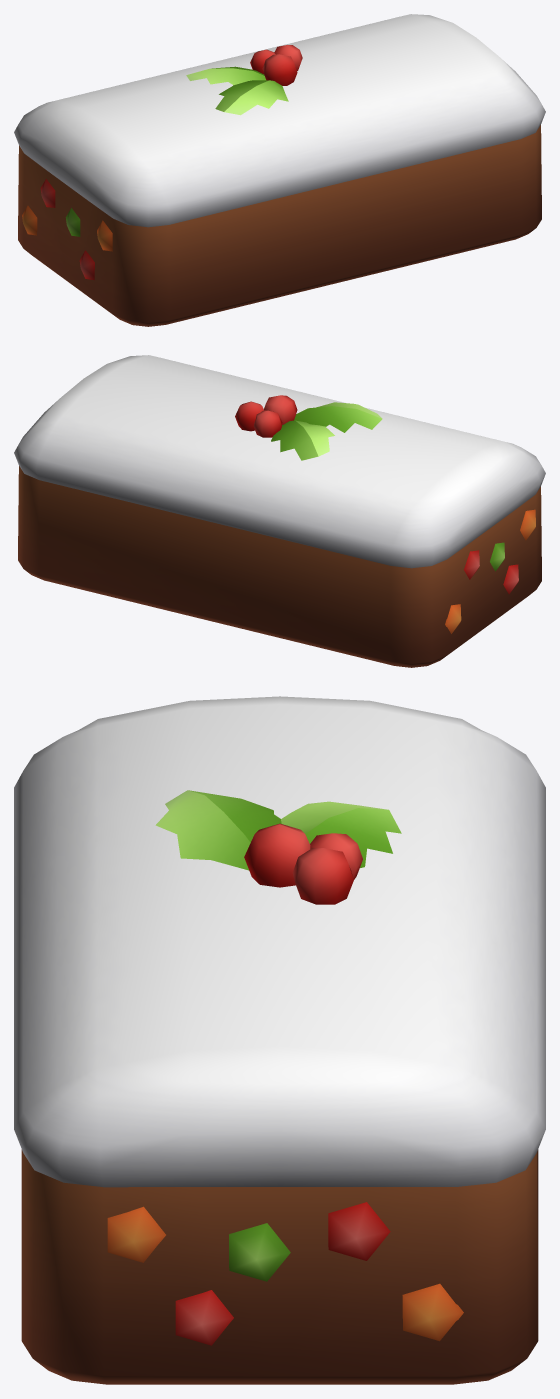
The model's file is m_FruitCake01.fbx.
3 renders of one model, top to bottom at view 1: azimuth 30°, elevation 25°; view 2: azimuth 150°, elevation 25°; view 3: azimuth 270°, elevation 25°, orthographic. The views are drawn at different scales.
Visible parts, largest first — view 1: m_FruitCake01; view 2: m_FruitCake01; view 3: m_FruitCake01.
Boxes of the visible parts, x1,y1,x2,y2 form: m_FruitCake01: [14, 14, 545, 326]; m_FruitCake01: [14, 355, 545, 667]; m_FruitCake01: [14, 696, 545, 1384].
Size of the model in its own units: 31.01 by 12.39 by 16.48.
